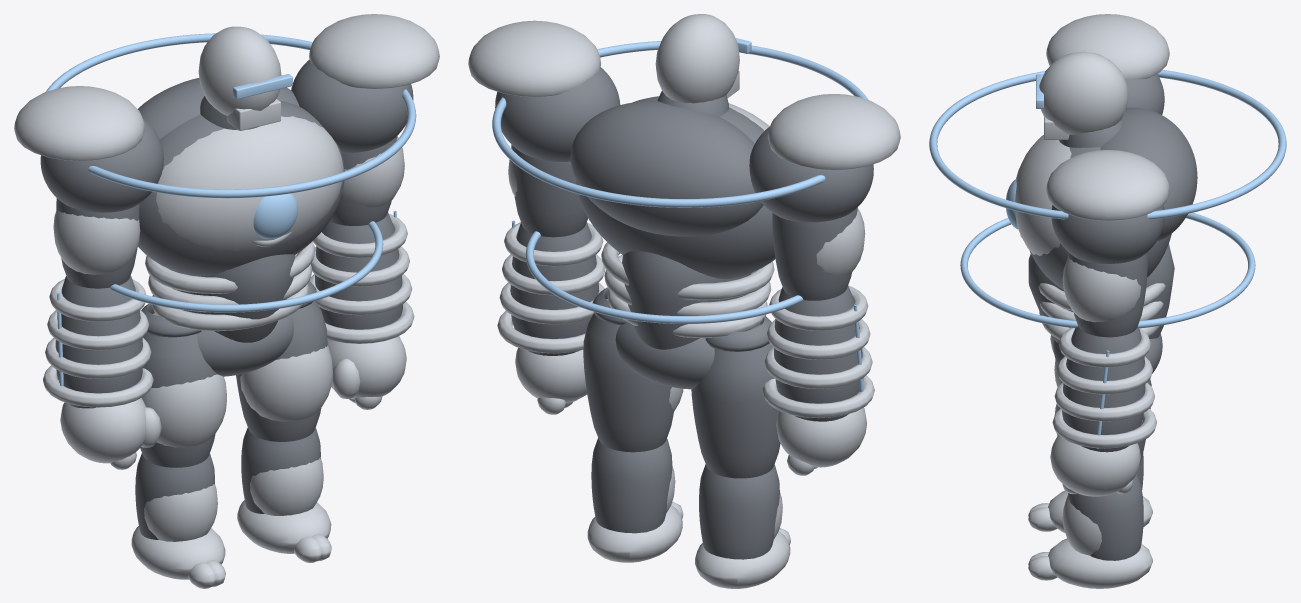
The model's file is Metal.fbx.
3 views of the same model, side by side, from view 1: azimuth 30°, elevation 25°; view 2: azimuth 150°, elevation 25°; view 3: azimuth 270°, elevation 25° (orthographic). The views are drawn at different scales.
Parts seen in each view (by area): view 1: Coraza, Anillo de resonancia, Hombrera flotante_D, Hombrera flotante_I, Placa del antebrazo_D, Pecho, Hombro_I, Cabeza.001, Placa del antebrazo_I, Hombro_D, Puno_D, Placa del muslo_I (+21 smaller); view 2: Espalda, Muslo_D.001, Muslo_I.001, Anillo de resonancia, Hombrera flotante_D, Hombrera flotante_I, Pecho, Placa del antebrazo_D, Pierna_I.001, Pierna_D.001, Cabeza.001, Placa del antebrazo_I (+15 smaller); view 3: Anillo de resonancia, Hombrera flotante_I, Placa del antebrazo_I, Cabeza.001, Coraza, Hombrera flotante_D, Espalda, Antebrazo_I.001, Hombro_I, Puno_I, Pie_I.001, Pierna_I.001 (+9 smaller).
Boxes of the visible parts, left/top/right/bottom form: Coraza: left=145, top=116, right=343, bottom=331; Anillo de resonancia: left=46, top=33, right=416, bottom=312; Hombrera flotante_D: left=14, top=86, right=144, bottom=160; Hombrera flotante_I: left=309, top=14, right=439, bottom=88; Placa del antebrazo_D: left=43, top=278, right=153, bottom=407; Pecho: left=137, top=100, right=344, bottom=276; Hombro_I: left=291, top=59, right=413, bottom=152; Cabeza.001: left=198, top=26, right=281, bottom=130; Placa del antebrazo_I: left=309, top=214, right=414, bottom=343; Hombro_D: left=40, top=118, right=163, bottom=212; Puno_D: left=60, top=398, right=161, bottom=469; Placa del muslo_I: left=240, top=345, right=332, bottom=421; Espalda: left=570, top=101, right=763, bottom=236; Muslo_D.001: left=691, top=316, right=780, bottom=478; Muslo_I.001: left=583, top=287, right=674, bottom=452; Anillo de resonancia: left=492, top=41, right=868, bottom=323; Hombrera flotante_D: left=767, top=94, right=900, bottom=169; Hombrera flotante_I: left=468, top=20, right=600, bottom=96; Pecho: left=576, top=96, right=775, bottom=279; Placa del antebrazo_D: left=762, top=285, right=874, bottom=418; Pierna_I.001: left=591, top=438, right=672, bottom=533; Pierna_D.001: left=699, top=464, right=779, bottom=559; Cabeza.001: left=655, top=14, right=739, bottom=103; Placa del antebrazo_I: left=497, top=222, right=605, bottom=353; Anillo de resonancia: left=929, top=70, right=1286, bottom=328; Hombrera flotante_I: left=1046, top=150, right=1169, bottom=220; Placa del antebrazo_I: left=1052, top=328, right=1156, bottom=448; Cabeza.001: left=1039, top=51, right=1128, bottom=139; Coraza: left=1015, top=135, right=1165, bottom=339; Hombrera flotante_D: left=1046, top=14, right=1169, bottom=79; Espalda: left=1100, top=107, right=1197, bottom=240; Antebrazo_I.001: left=1062, top=326, right=1145, bottom=452; Hombro_I: left=1051, top=205, right=1164, bottom=263; Puno_I: left=1050, top=435, right=1140, bottom=496; Pie_I.001: left=1028, top=538, right=1152, bottom=588; Pierna_I.001: left=1068, top=473, right=1143, bottom=560.
Bounding box in the file's own units: 2.16 × 2.7 × 1.73.
